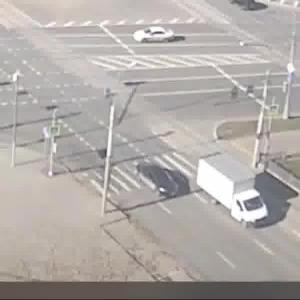car: (195, 153, 273, 232), (135, 162, 185, 202), (137, 29, 181, 45)
